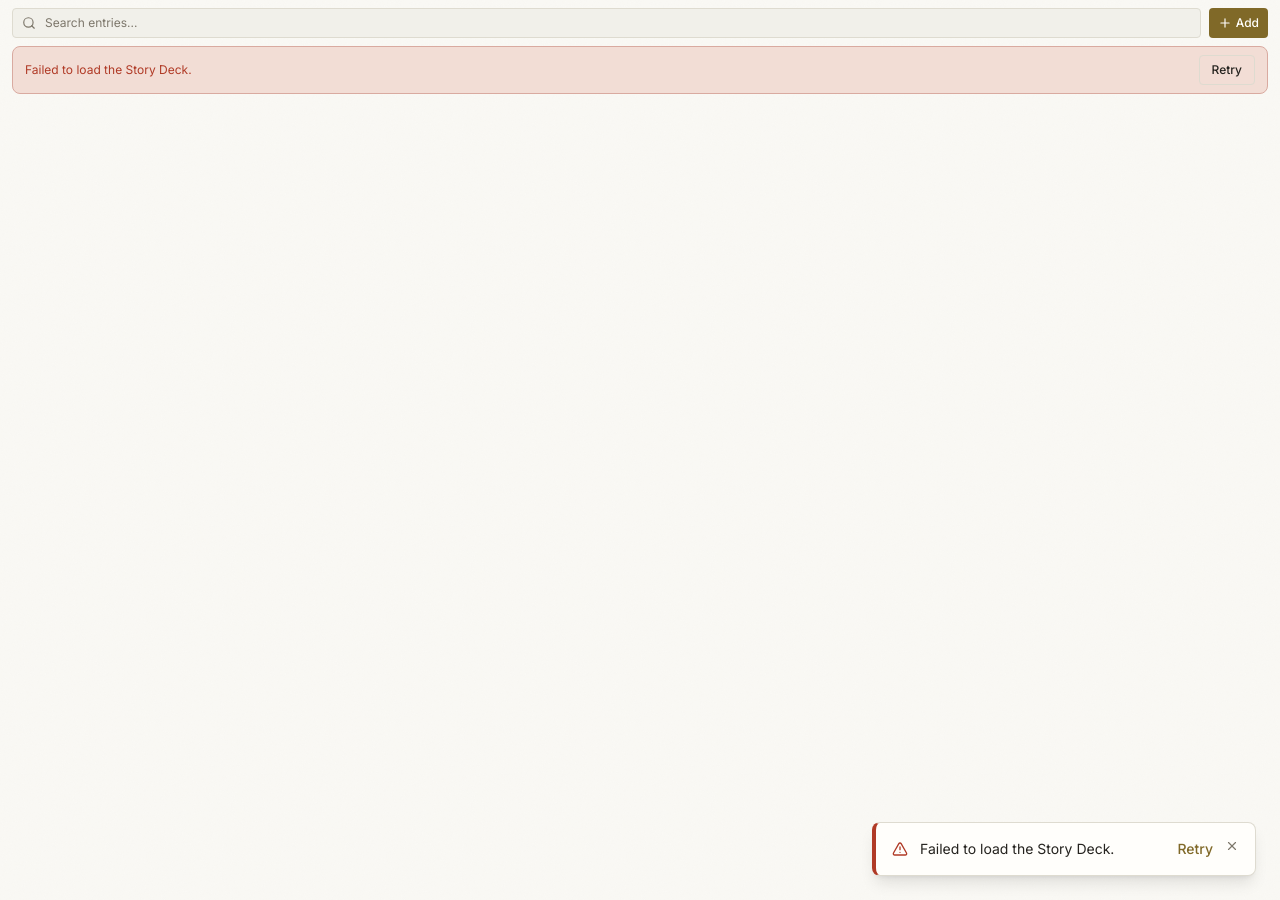
KnowledgePanel feedback states › surfaces a panel-local error with a working retry
Expected: the message shows "Failed to load the Story Deck.", [25,62,192,77]
Click the 1st button "Retry": (1227, 70) [1198,55,1255,85]
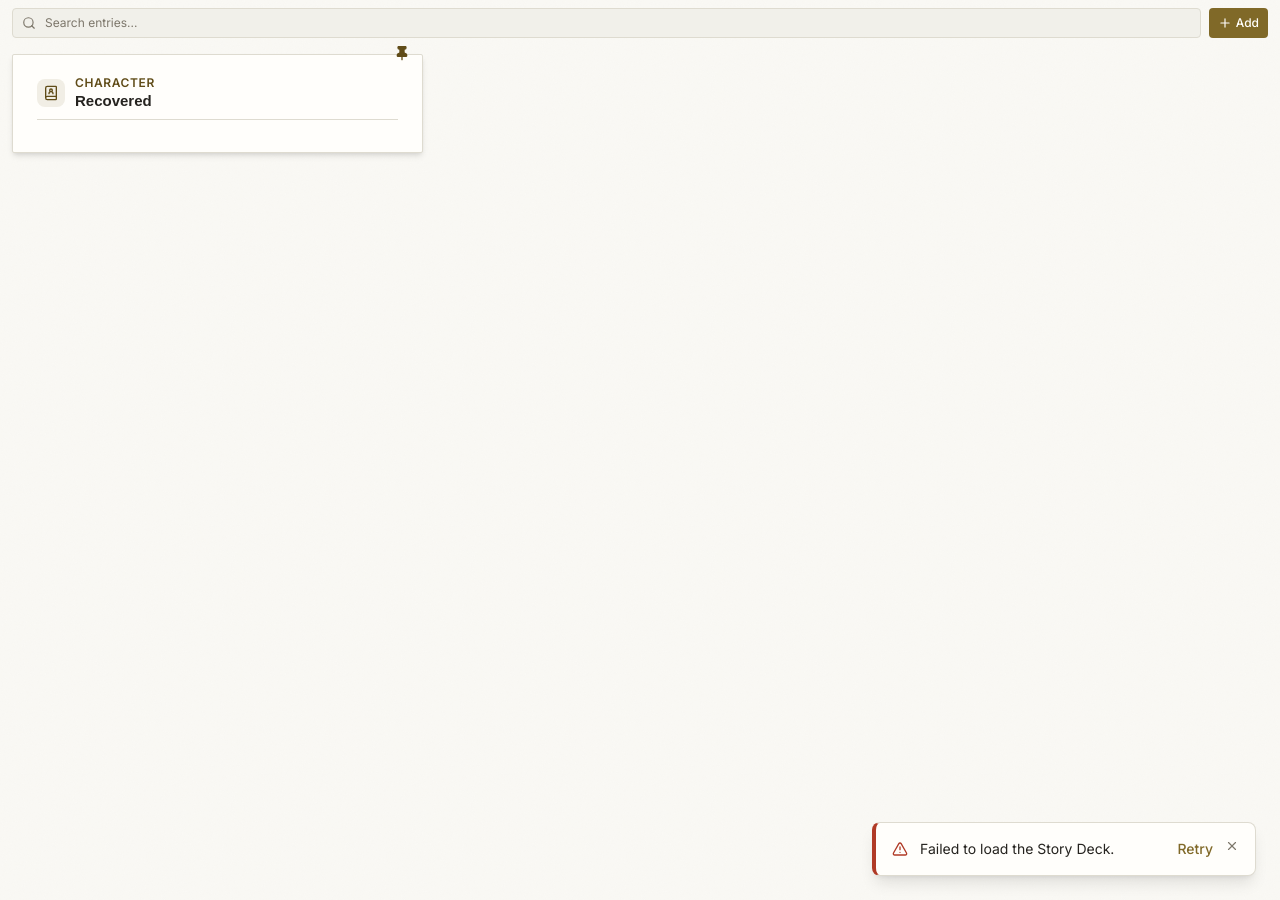
Now the text "Recovered" is shown, box [75,92,155,111]
